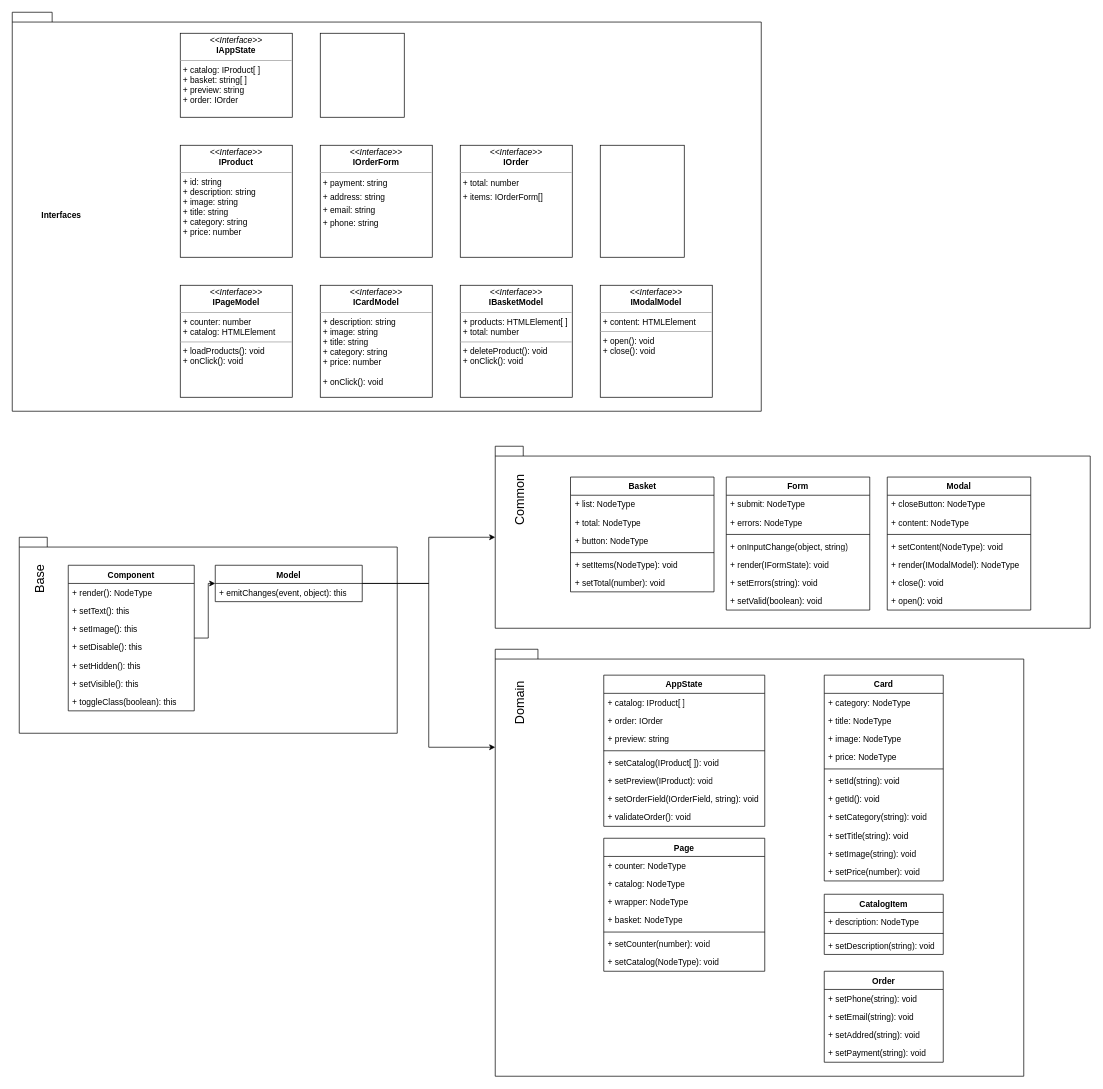
Some shapes in this 1103 by 1089 pixel diagram are drawn without their labels. Here are the shapes that lost their labels. From the top down, the centre of each, then its label:
At (x=362, y=75): "<<Interface>> IFormState + valid: boolean + errors: string[ ]".
At (x=642, y=201): "<<Interface>> IOrderResult + id: string".
